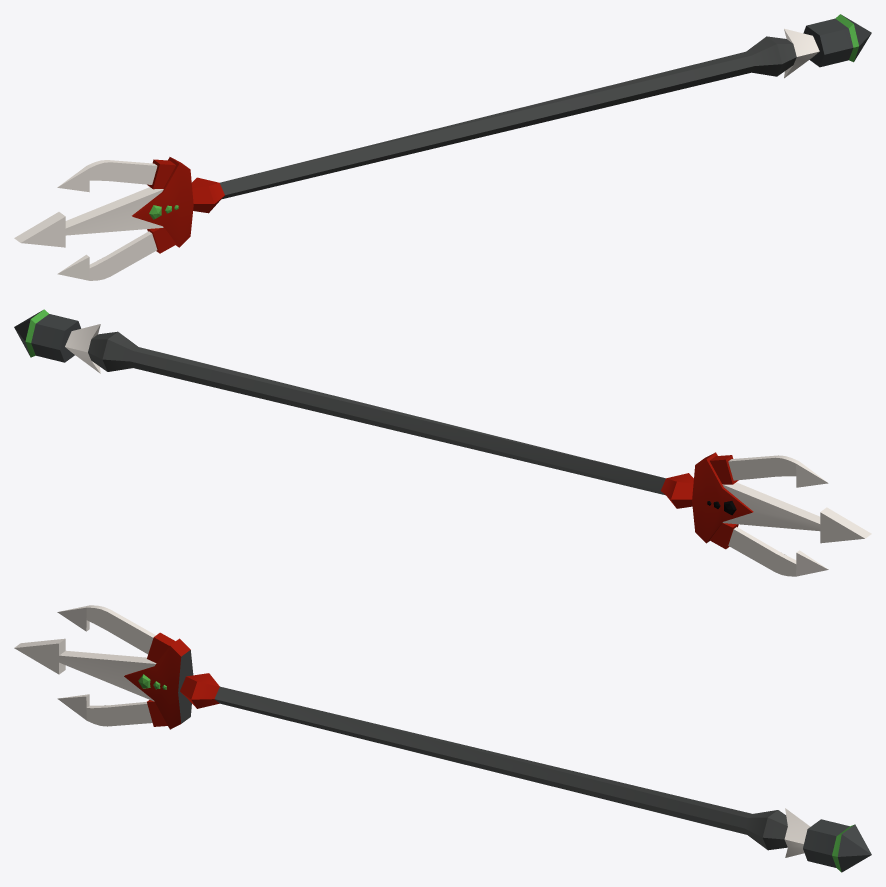
The model's file is steel spear.fbx.
The picture shows the model from 3 angles, top to bottom: view 1: azimuth 30°, elevation 25°; view 2: azimuth 150°, elevation 25°; view 3: azimuth 330°, elevation 25°; orthographic projection.
Visible parts, largest first — view 1: Sphere.002; view 2: Sphere.002; view 3: Sphere.002.
Boxes of the visible parts, x1,y1,x2,y2 form: Sphere.002: (14,14,871,280); Sphere.002: (14,309,871,576); Sphere.002: (14,605,871,872).
Bounding box in the file's own units: 600 × 78.31 × 28.88.
